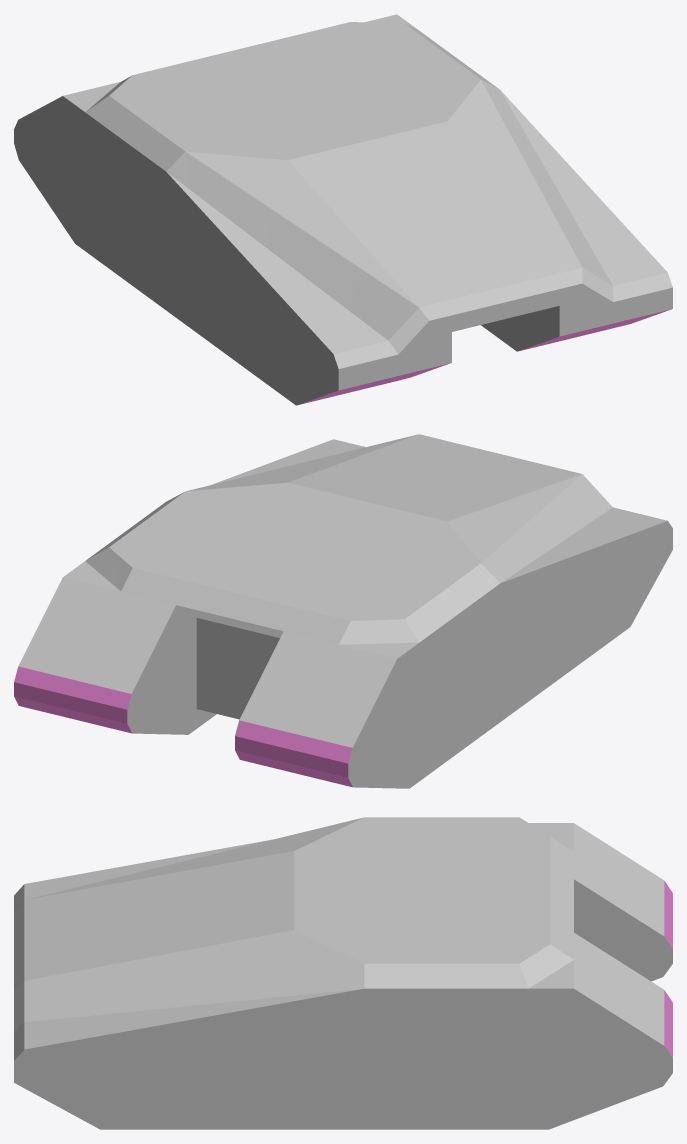
3 renders of one model, top to bottom at view 1: azimuth 30°, elevation 25°; view 2: azimuth 150°, elevation 25°; view 3: azimuth 270°, elevation 25°, orthographic.
Parts seen in each view (by area): view 1: hull; view 2: hull; view 3: hull.
Boxes of the visible parts, left/top/right/bottom form: hull: left=14, top=14, right=672, bottom=405; hull: left=14, top=434, right=672, bottom=788; hull: left=14, top=817, right=672, bottom=1129.
Bounding box in the file's own units: 370 × 163 × 622.
